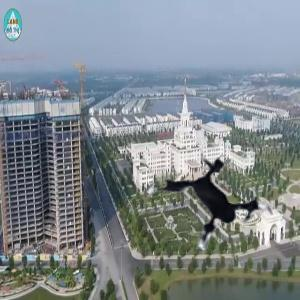drone: (136, 138, 281, 283)
